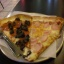ham: (32, 41, 45, 54), (41, 30, 50, 43), (51, 24, 61, 31), (33, 21, 42, 28), (43, 22, 52, 27)
olives: (13, 30, 25, 39), (8, 22, 13, 33), (22, 20, 31, 26)
pizza: (1, 15, 64, 60)
